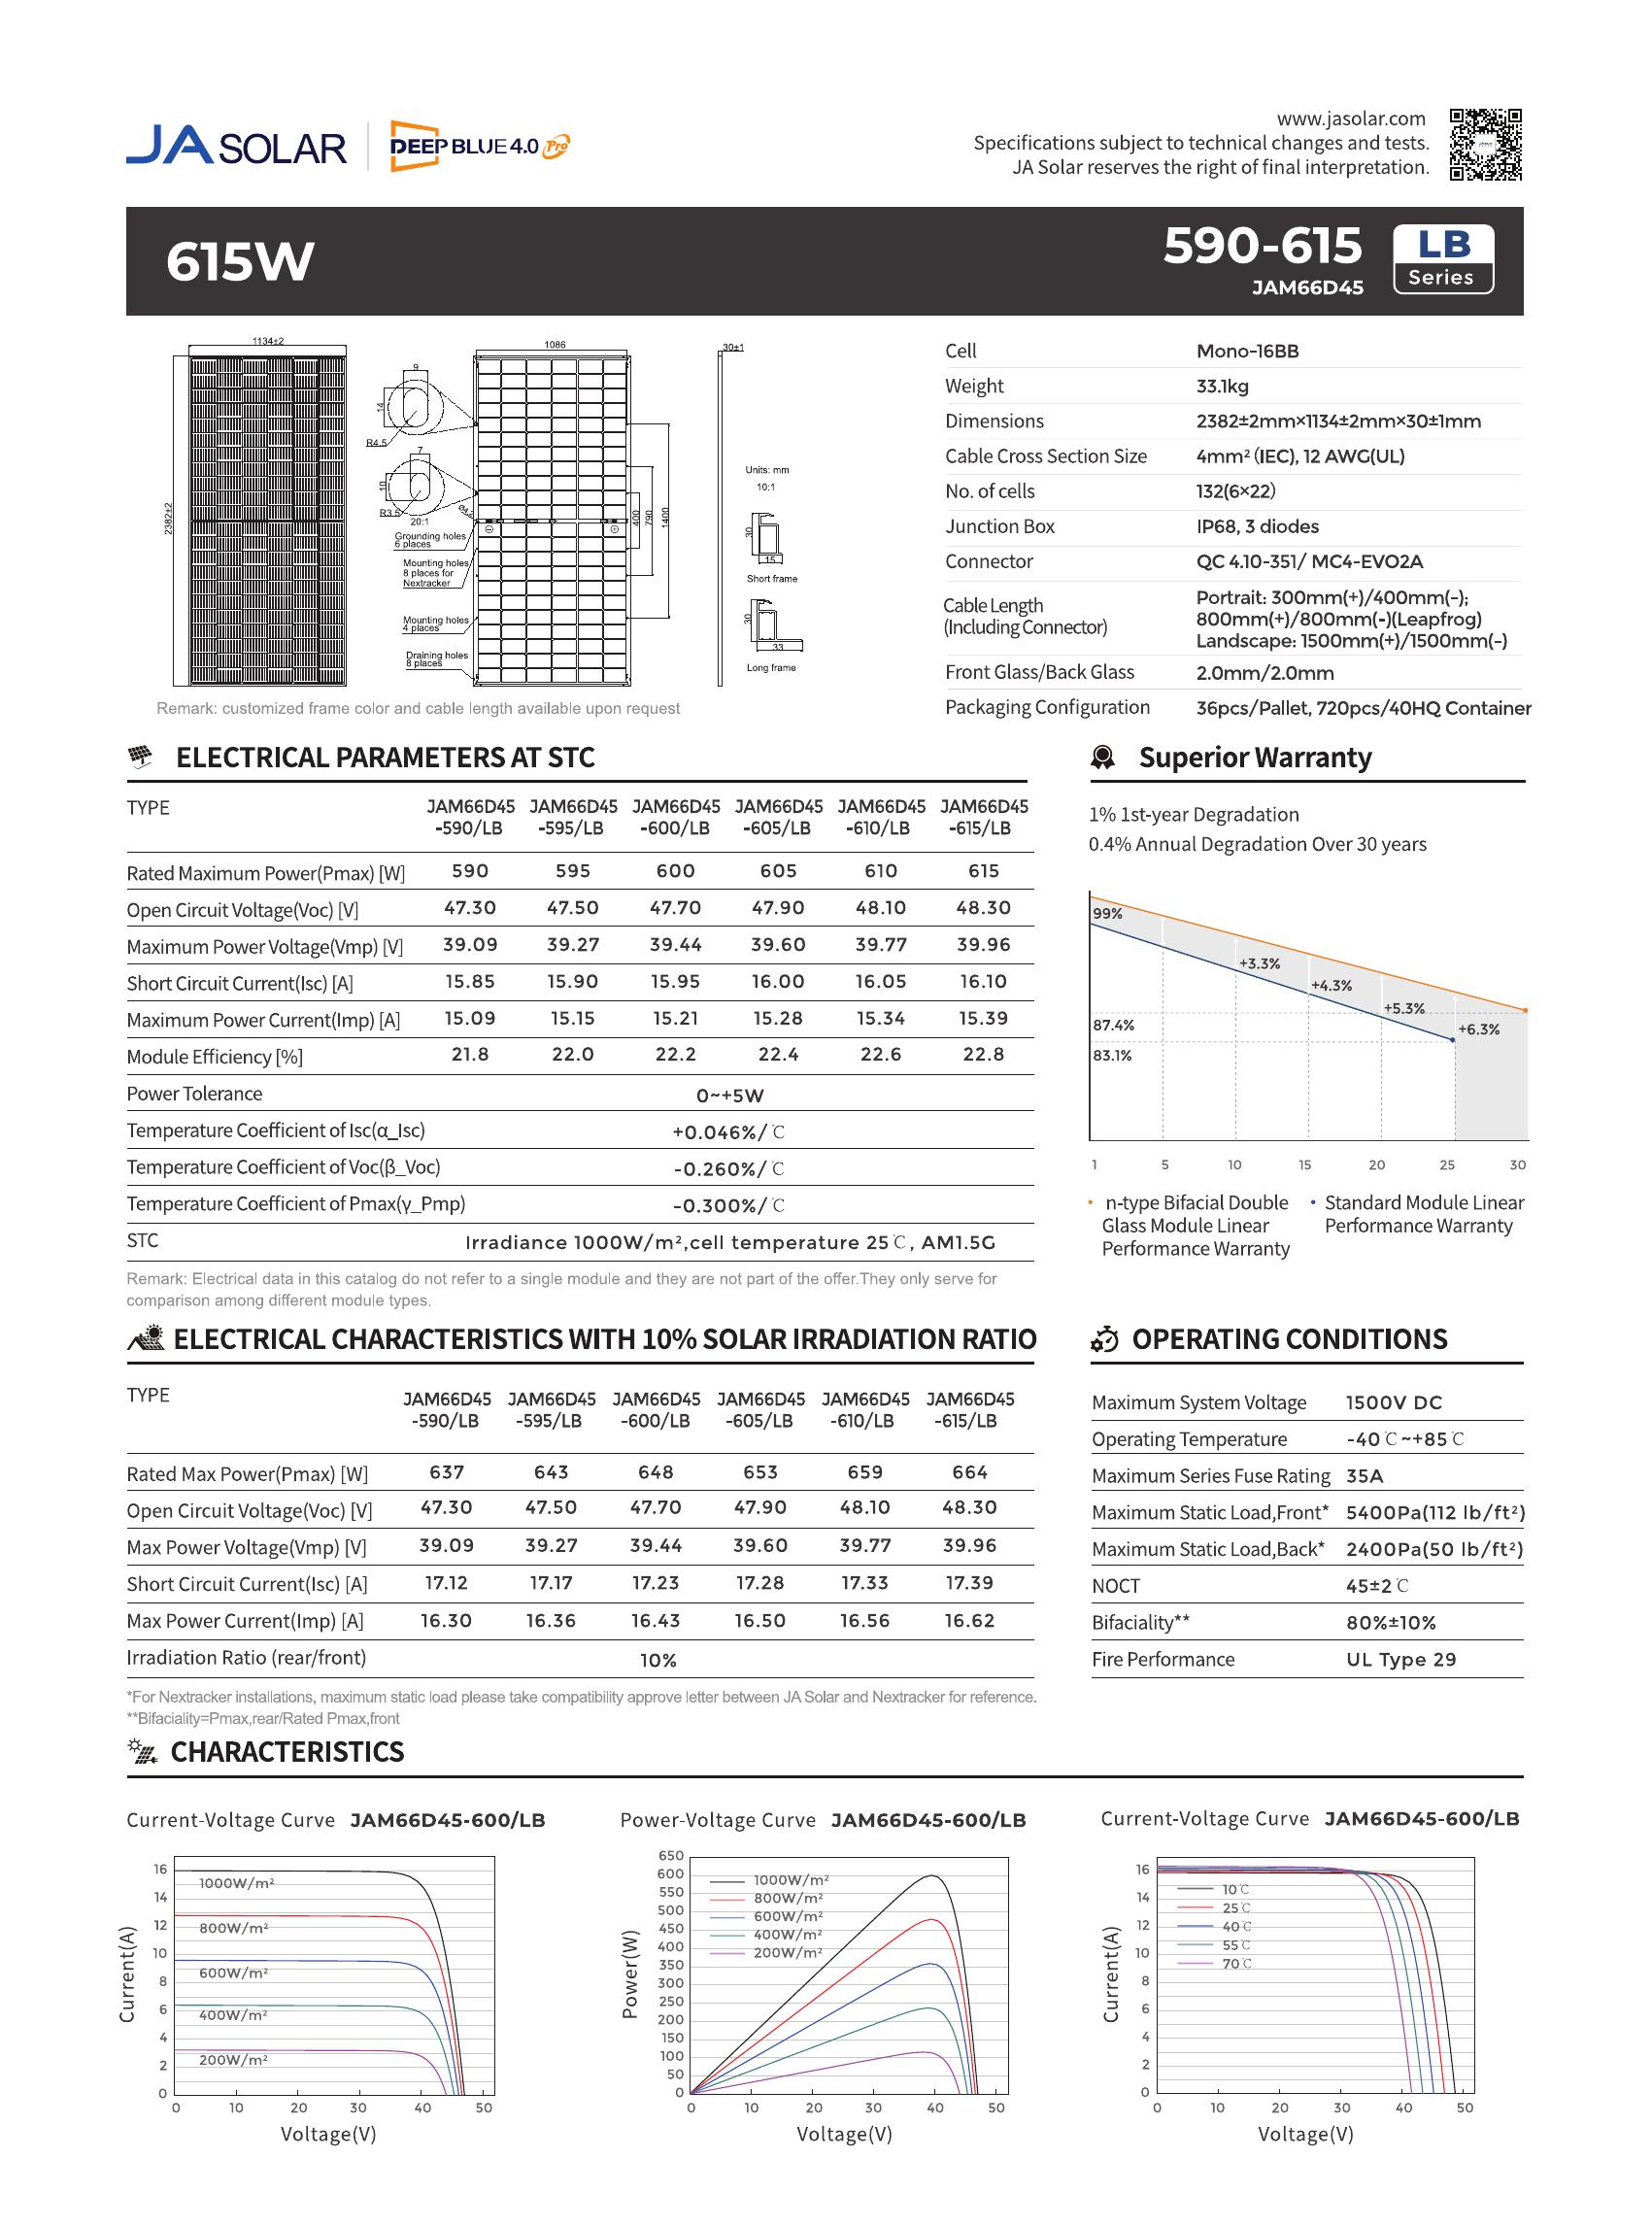table: (115, 791, 1048, 1270), (108, 1374, 1048, 1686), (1079, 1379, 1536, 1692)
